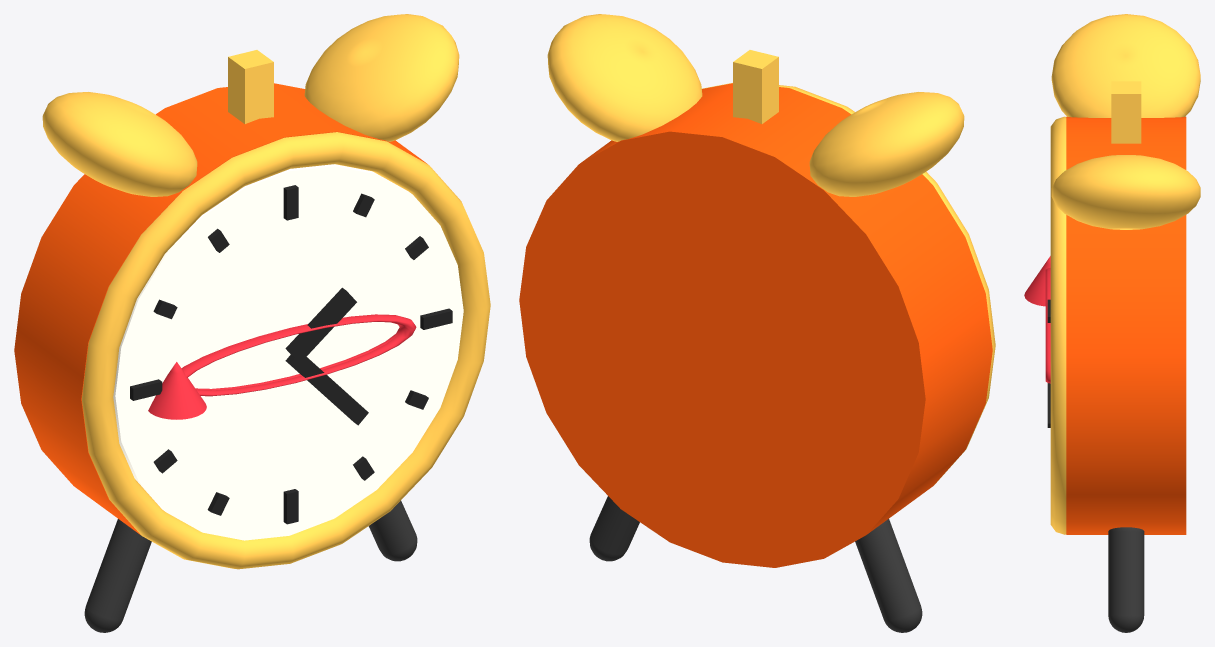
Rendered from despertador.glb.
The picture shows the model from 3 angles, left to right: view 1: azimuth 30°, elevation 25°; view 2: azimuth 150°, elevation 25°; view 3: azimuth 270°, elevation 25°; orthographic projection. The views are drawn at different scales.
Visible parts, largest first — view 1: despertador; view 2: despertador; view 3: despertador.
Part boxes in pixels (x1,y1,x2,y2): despertador: (14, 14, 490, 632); despertador: (519, 14, 995, 632); despertador: (1024, 14, 1200, 632).
Size of the model in its own units: 0.28 by 0.3528 by 0.1176.
